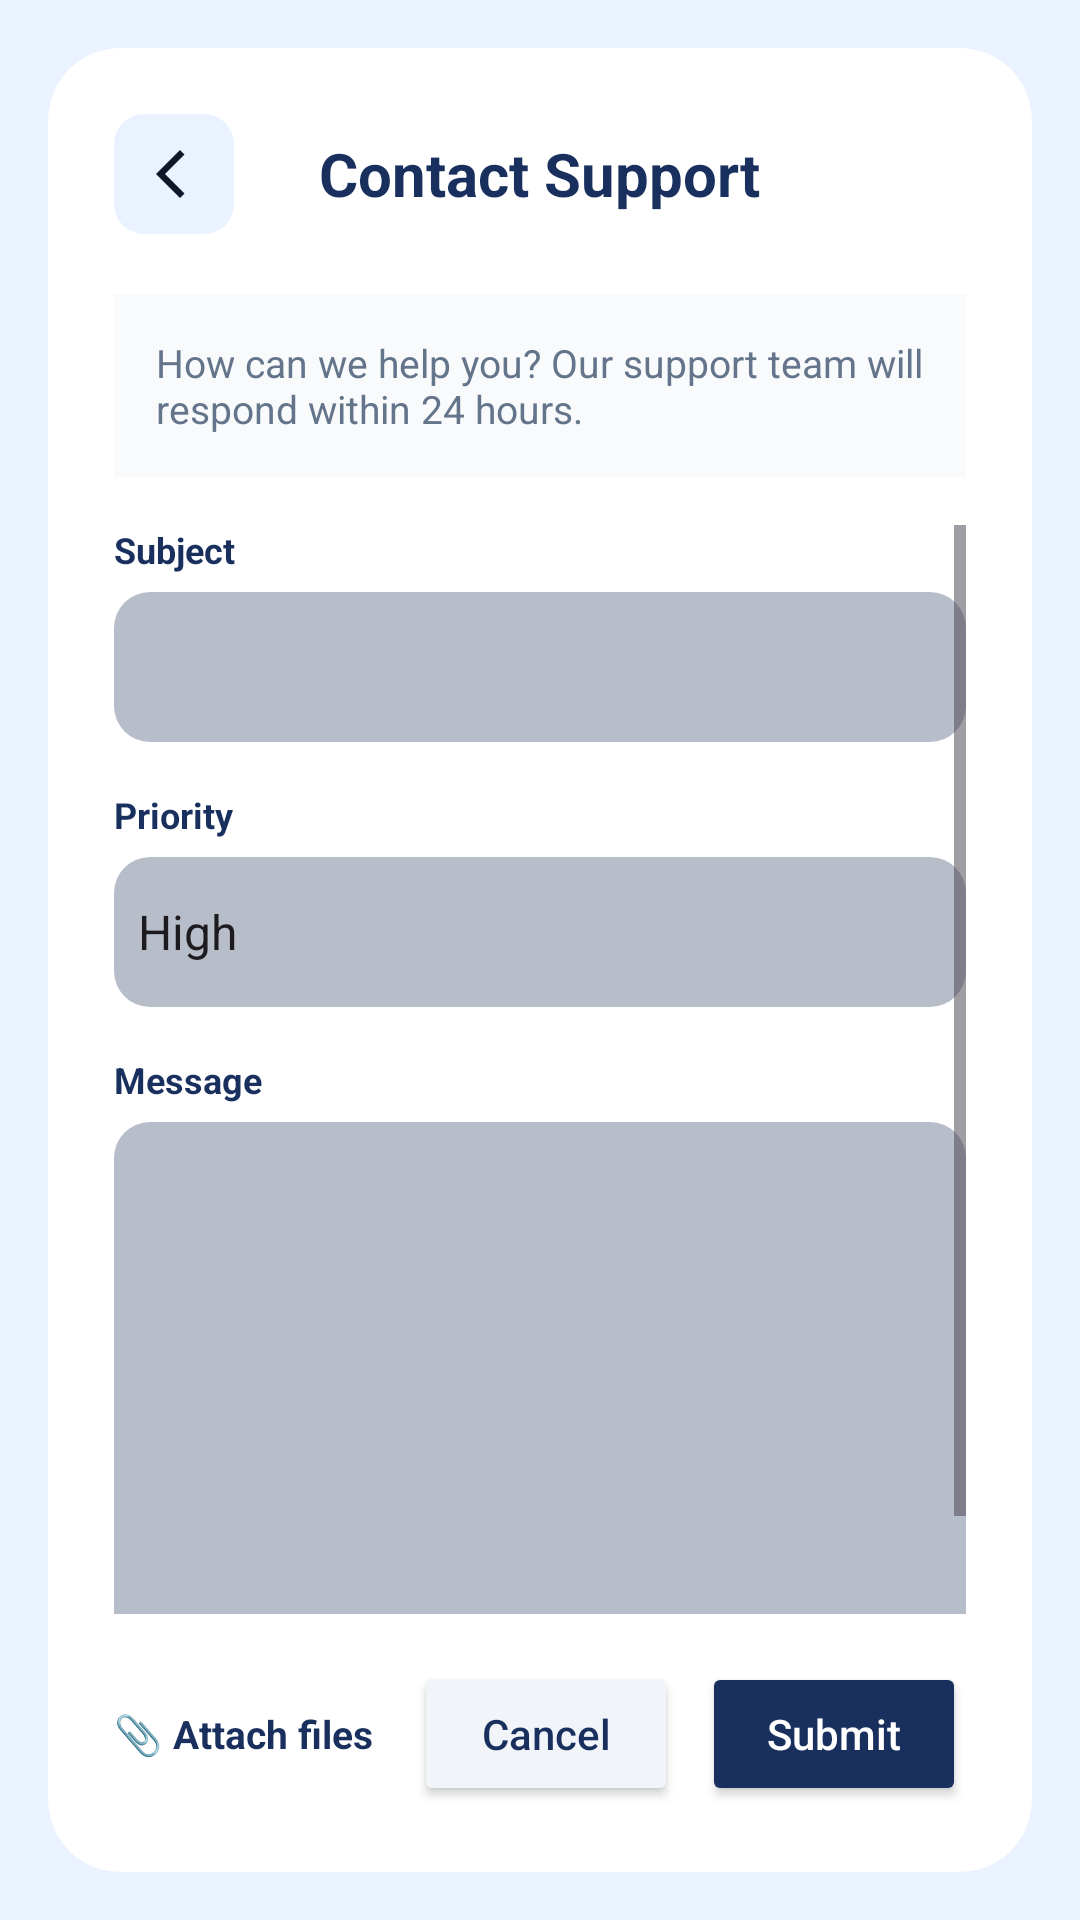

Icon click points for this 1080 × 1920 phone screenshot, format [x,y]:
back: [174,174]
